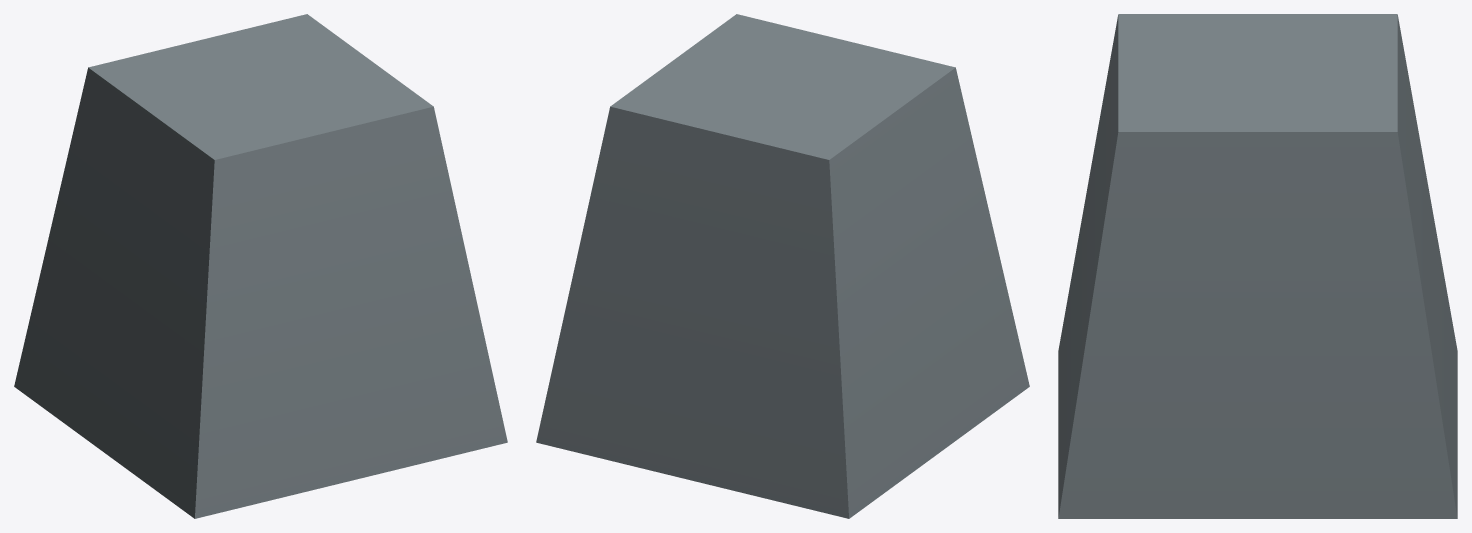
The model's file is n_rock_2_a.glb.
The picture shows the model from 3 angles, left to right: view 1: azimuth 30°, elevation 25°; view 2: azimuth 150°, elevation 25°; view 3: azimuth 270°, elevation 25°; orthographic projection. The views are drawn at different scales.
Visible parts, largest first — view 1: Rock_2_A_Color1; view 2: Rock_2_A_Color1; view 3: Rock_2_A_Color1.
Part boxes in pixels (x1,y1,x2,y2): Rock_2_A_Color1: (14, 14, 507, 518); Rock_2_A_Color1: (536, 14, 1029, 518); Rock_2_A_Color1: (1058, 14, 1457, 518).
Size of the model in its own units: 0.2156 by 0.2156 by 0.2156.
Materials: 1 (1 with a texture image).
